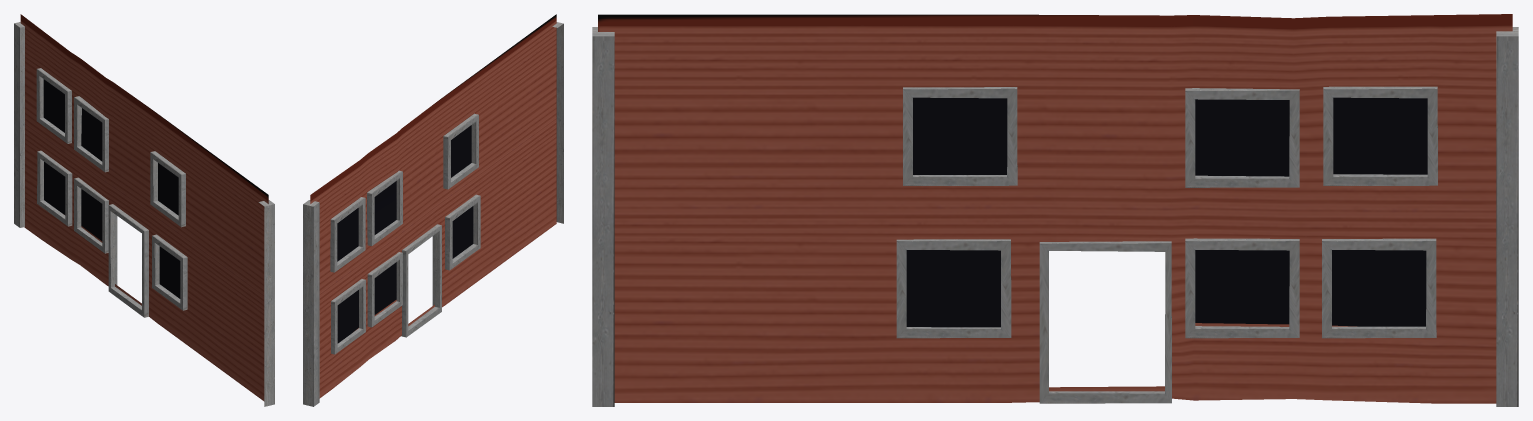
Rendered from house_front.fbx.
3 views of the same model, side by side, from view 1: azimuth 30°, elevation 25°; view 2: azimuth 150°, elevation 25°; view 3: azimuth 270°, elevation 25° (orthographic). The views are drawn at different scales.
Parts seen in each view (by area): view 1: pCube46; view 2: pCube46; view 3: pCube46.
Part boxes in pixels (bbox=[...]): pCube46: bbox=[14, 14, 274, 406]; pCube46: bbox=[303, 14, 563, 406]; pCube46: bbox=[592, 14, 1518, 406].
Size of the model in its own units: 0.2567 by 4.93 by 10.62.
